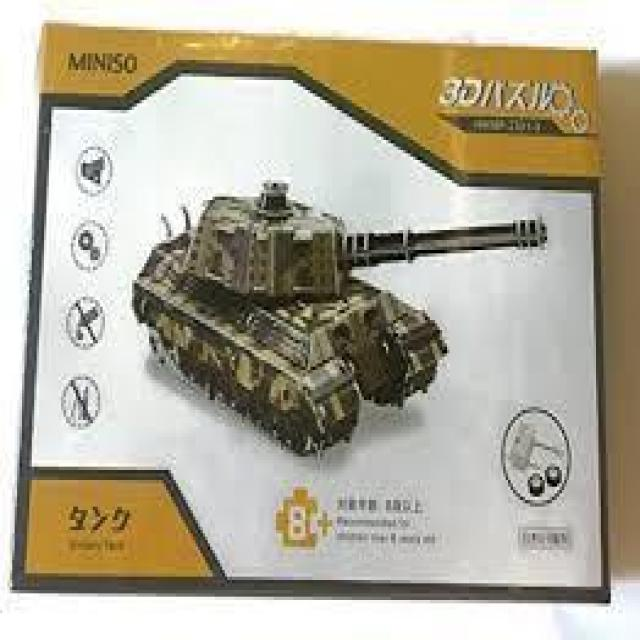Tanks: (128, 166, 551, 456)
